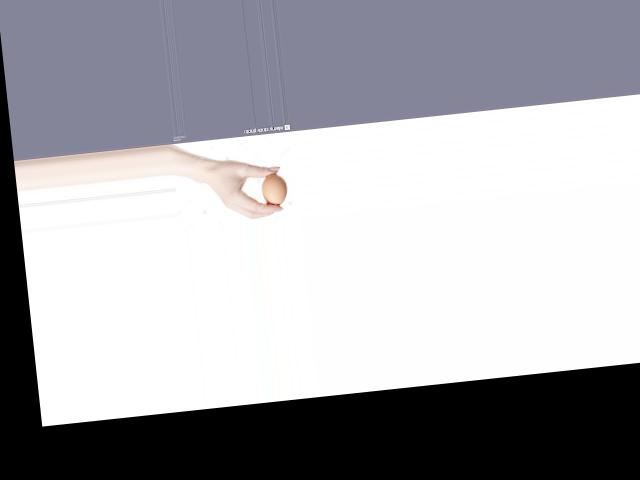egg: (258, 172, 288, 206)
